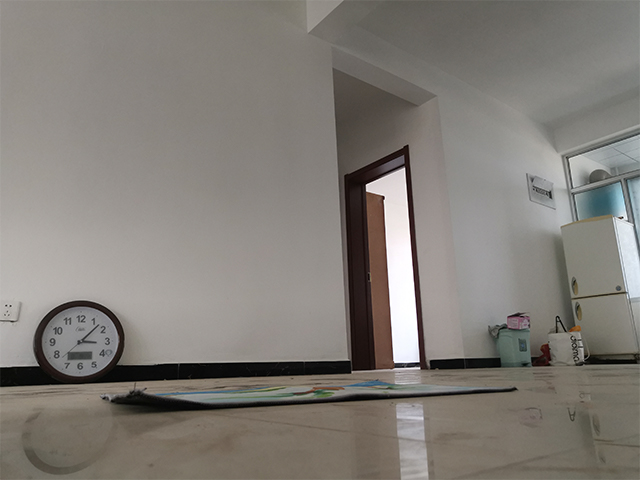carpet: (98, 378, 520, 412)
trashcan: (492, 325, 534, 369)
